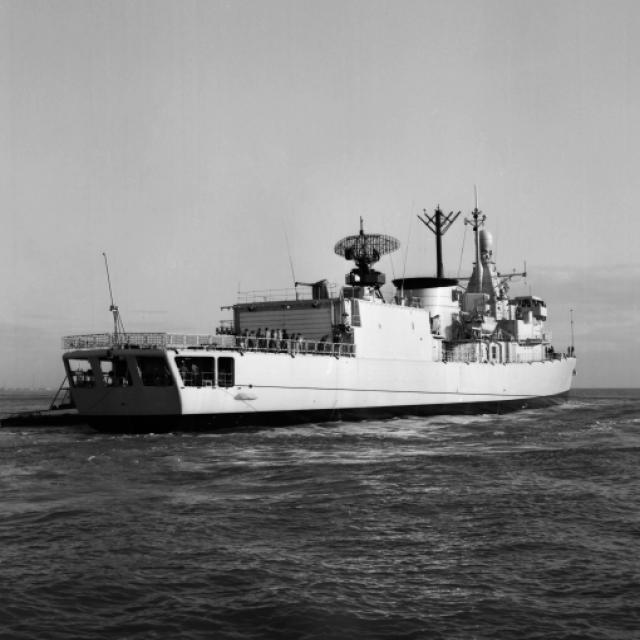Fragata: (50, 180, 586, 432)
